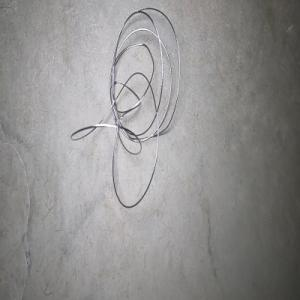Wire: (70, 7, 180, 208)
